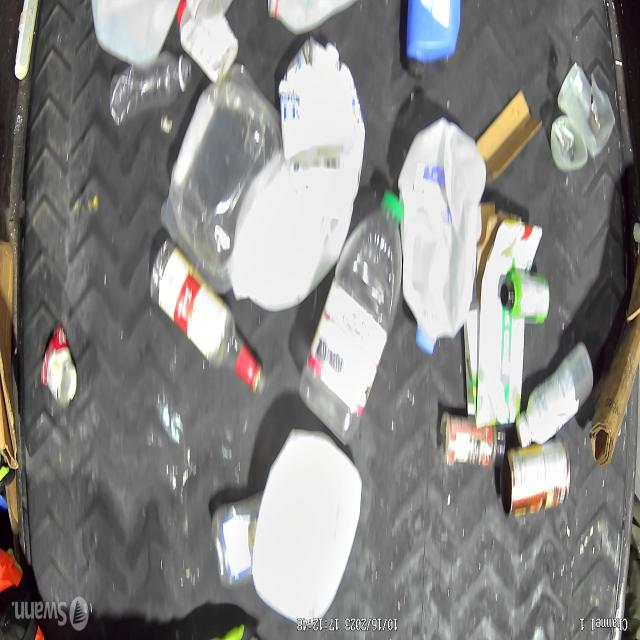can: (498, 436, 572, 520), (41, 326, 78, 406)
milk_jug: (248, 419, 362, 619), (229, 145, 362, 312), (395, 115, 485, 355)
non_white_jug: (398, 0, 464, 70)
plastic_bottle: (298, 191, 403, 447), (149, 240, 267, 400), (518, 346, 595, 444), (102, 45, 193, 121)
